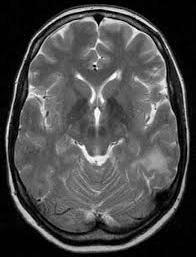Normal_Brain: (6, 3, 196, 257)
